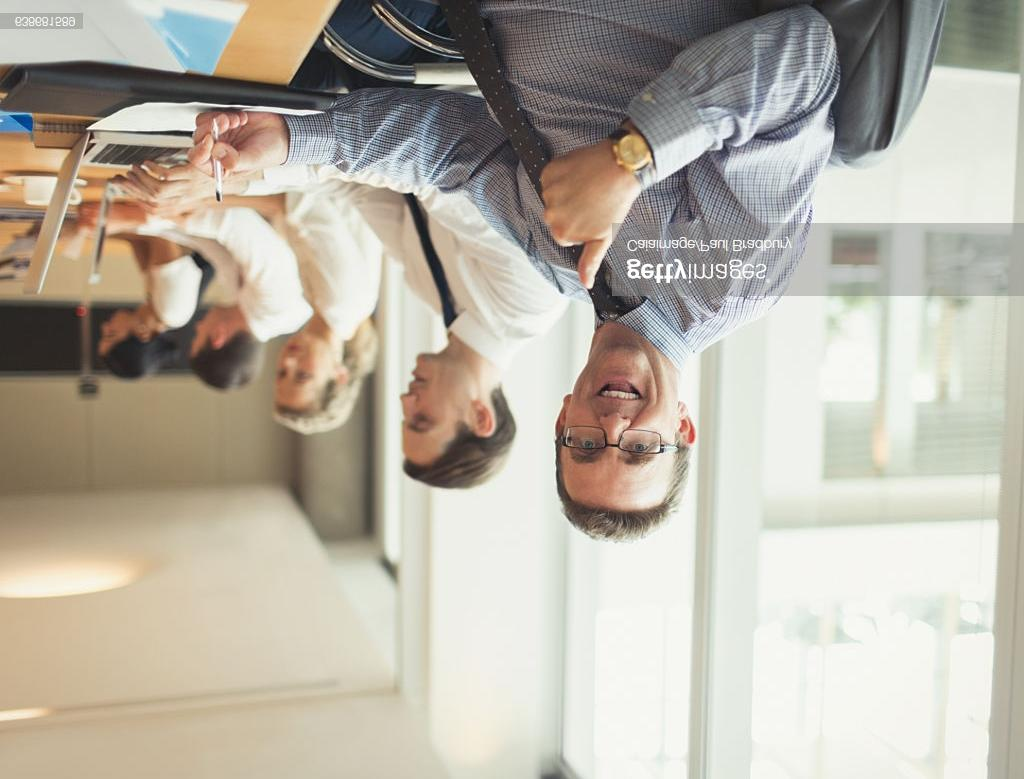thumbsdown: (539, 154, 602, 290)
